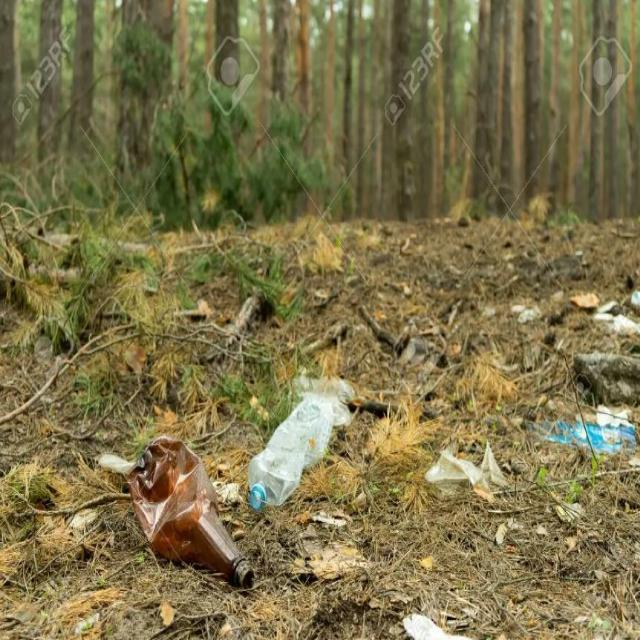bottle: (227, 342, 351, 542)
